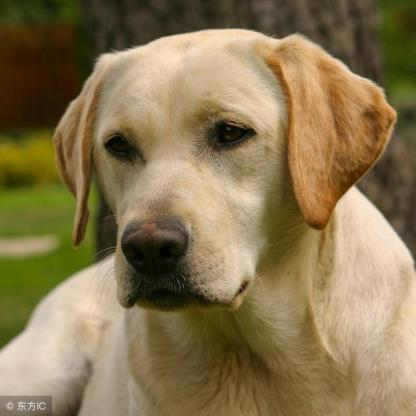dog: (4, 30, 416, 416)
